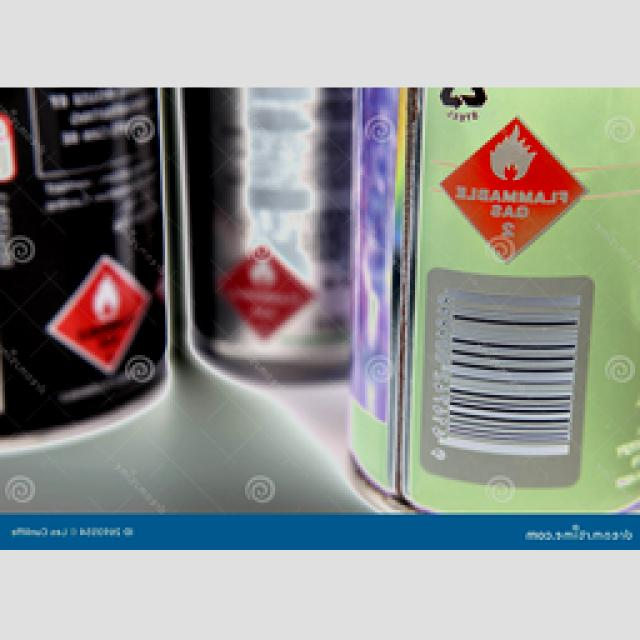B3: (391, 92, 636, 507)
